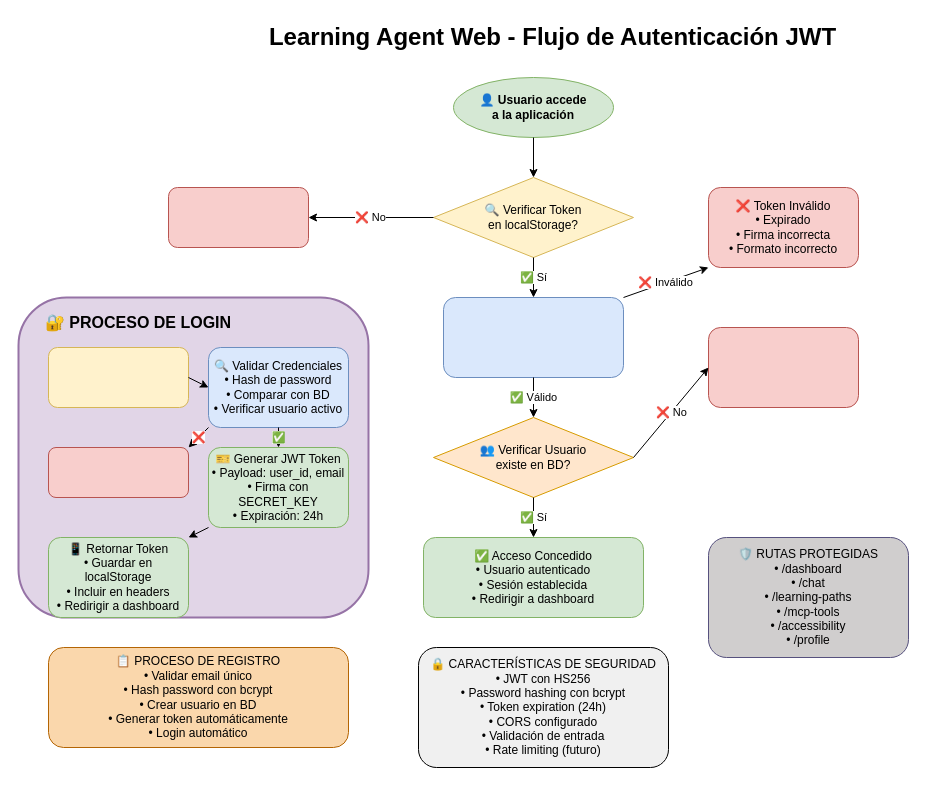
Some shapes in this 926 by 785 pixel diagram are drawn without their labels. The shapes that lost their labels are listed below. From the top down, each one's centre as x and y in pixels, then its label:
the point at 238,217: ❌ No Token Redirigir a /login
the point at 533,337: 🔐 Validar Token • Verificar firma JWT • Comprobar expiración • Extraer user_id
the point at 118,377: 📝 Formulario Login • Email • Password
the point at 783,367: ❌ Usuario no encontrado Token válido pero usuario eliminado
the point at 118,472: ❌ Login Fallido Credenciales incorrectas
